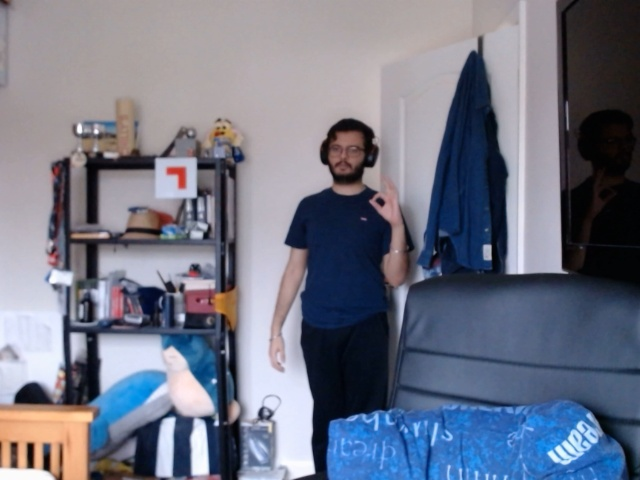Okay: (363, 174, 416, 224)
